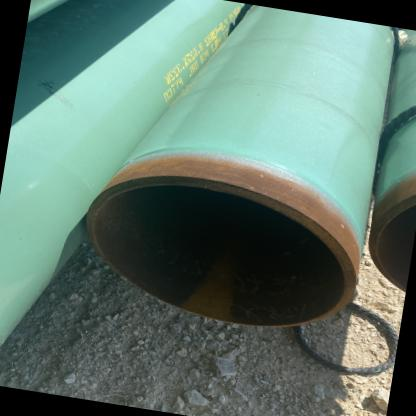clean: (178, 148, 236, 212)
